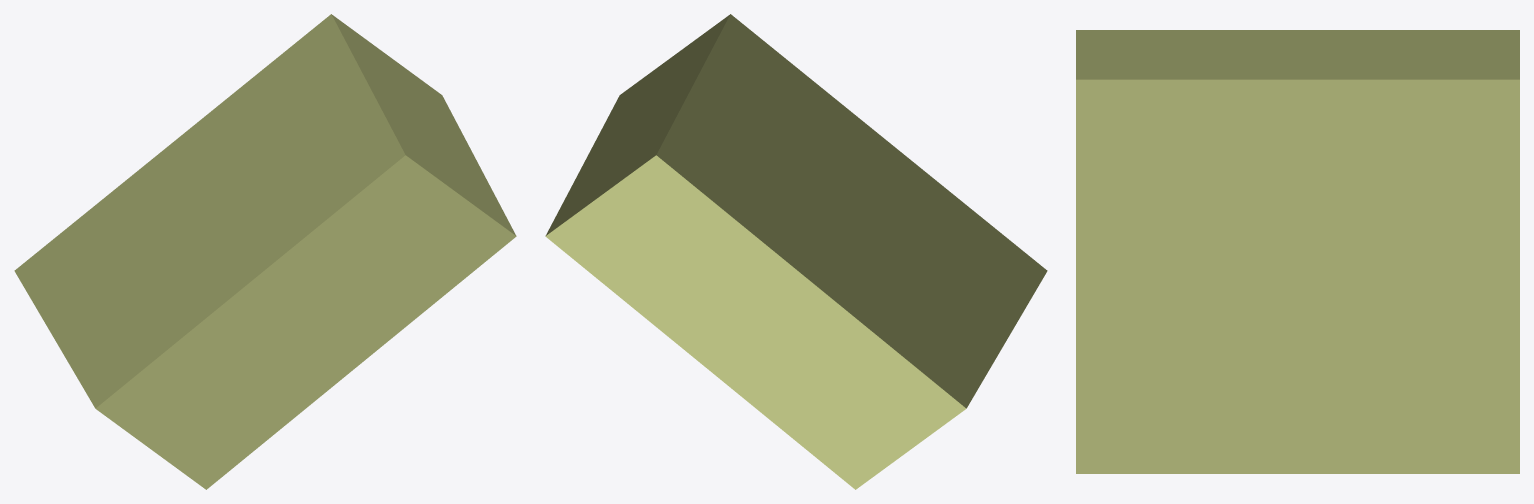
3 renders of one model, left to right at view 1: azimuth 30°, elevation 25°; view 2: azimuth 150°, elevation 25°; view 3: azimuth 270°, elevation 25°, orthographic. The views are drawn at different scales.
Parts seen in each view (by area): view 1: 0_1_2_0_3_3_3_1_1; view 2: 0_1_2_0_3_3_3_1_1; view 3: 0_1_2_0_3_3_3_1_1.
Boxes of the visible parts, <box> form: 0_1_2_0_3_3_3_1_1: <box>14,14,516,489</box>; 0_1_2_0_3_3_3_1_1: <box>545,14,1047,489</box>; 0_1_2_0_3_3_3_1_1: <box>1076,30,1519,473</box>.
Size of the model in its own units: 18.32 by 15.09 by 9.
